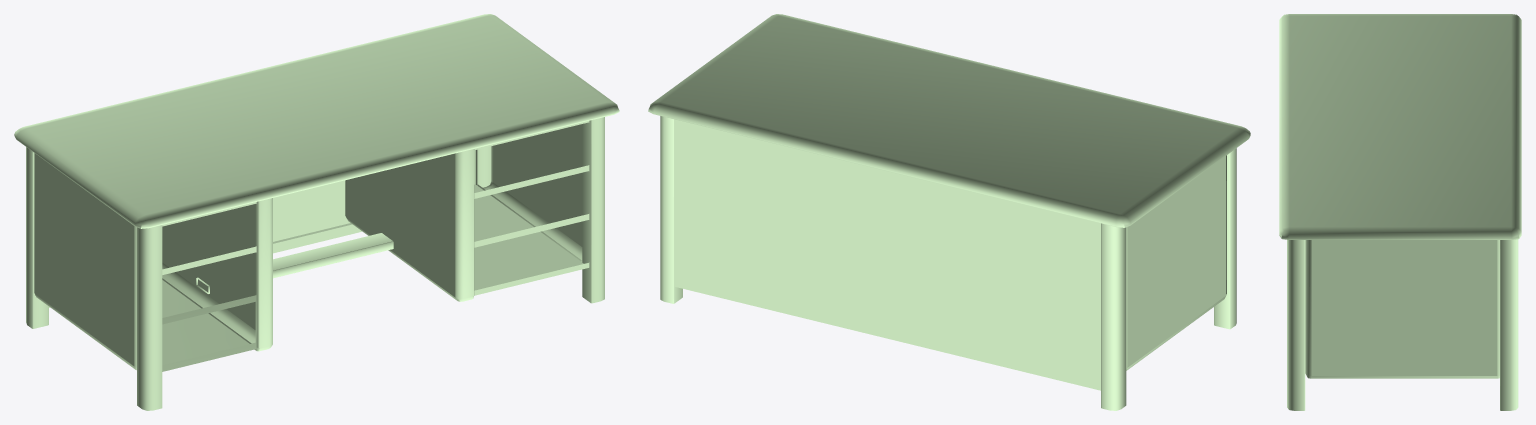
Rendered from 5_material12_scrivania_NESSUN_CASSETTO.fbx.
3 views of the same model, side by side, from view 1: azimuth 30°, elevation 25°; view 2: azimuth 150°, elevation 25°; view 3: azimuth 270°, elevation 25° (orthographic). The views are drawn at different scales.
Parts seen in each view (by area): view 1: 5_material12_scrivania; view 2: 5_material12_scrivania; view 3: 5_material12_scrivania.
Boxes of the visible parts, <box> form: 5_material12_scrivania: <box>14,14,619,410</box>; 5_material12_scrivania: <box>648,14,1250,410</box>; 5_material12_scrivania: <box>1279,14,1521,410</box>.
Bounding box in the file's own units: 1232 × 478 × 571.
